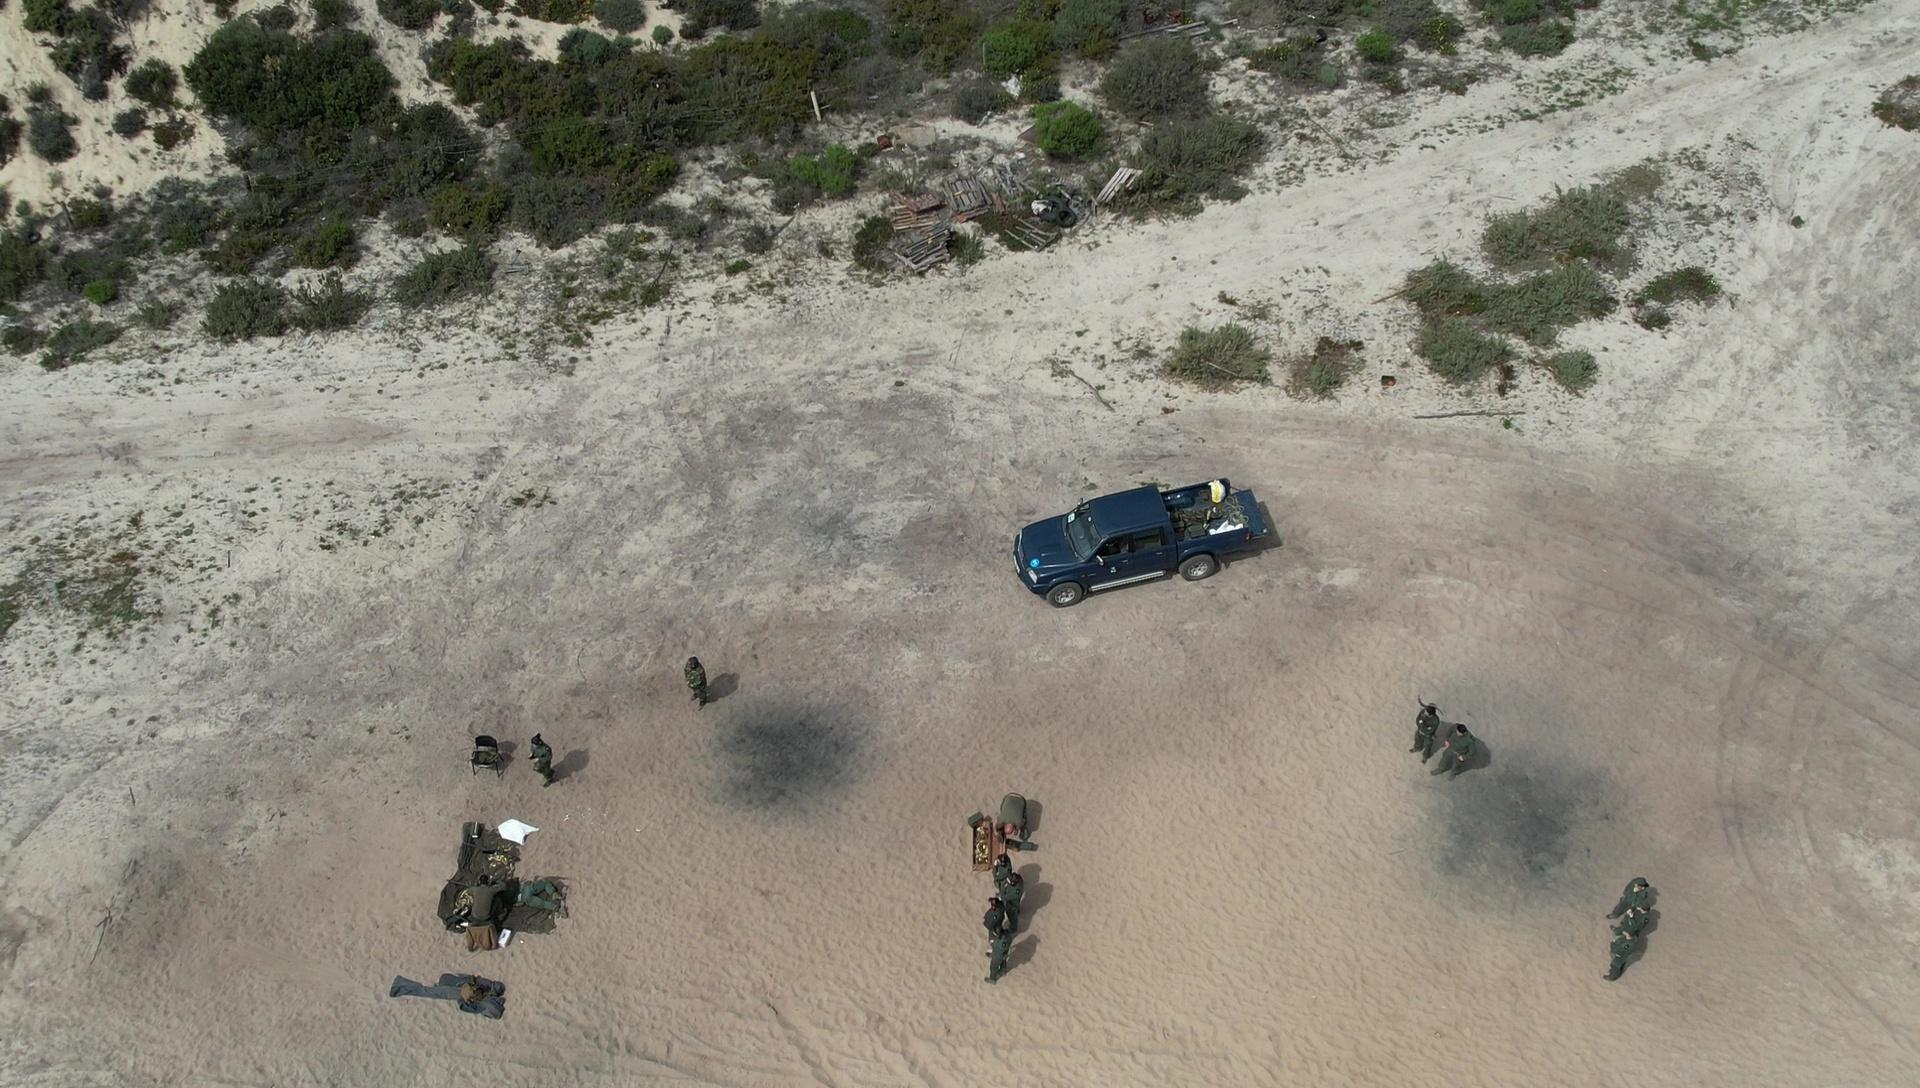Soldier: (497, 872, 588, 922), (1428, 710, 1481, 791), (670, 645, 720, 727), (458, 870, 513, 932), (996, 785, 1039, 862), (1604, 922, 1652, 986), (527, 729, 579, 789), (1607, 888, 1664, 940), (1408, 696, 1445, 768), (989, 869, 1034, 921), (989, 921, 1017, 993), (1619, 873, 1669, 909), (972, 895, 1015, 928), (986, 853, 1018, 886)
